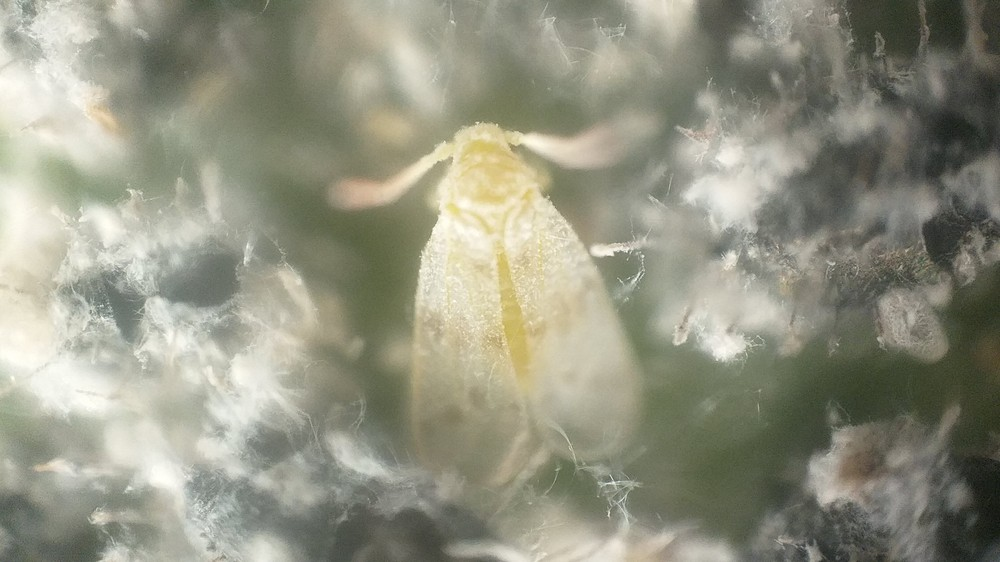Mosca Blanca: (321, 101, 676, 478)
